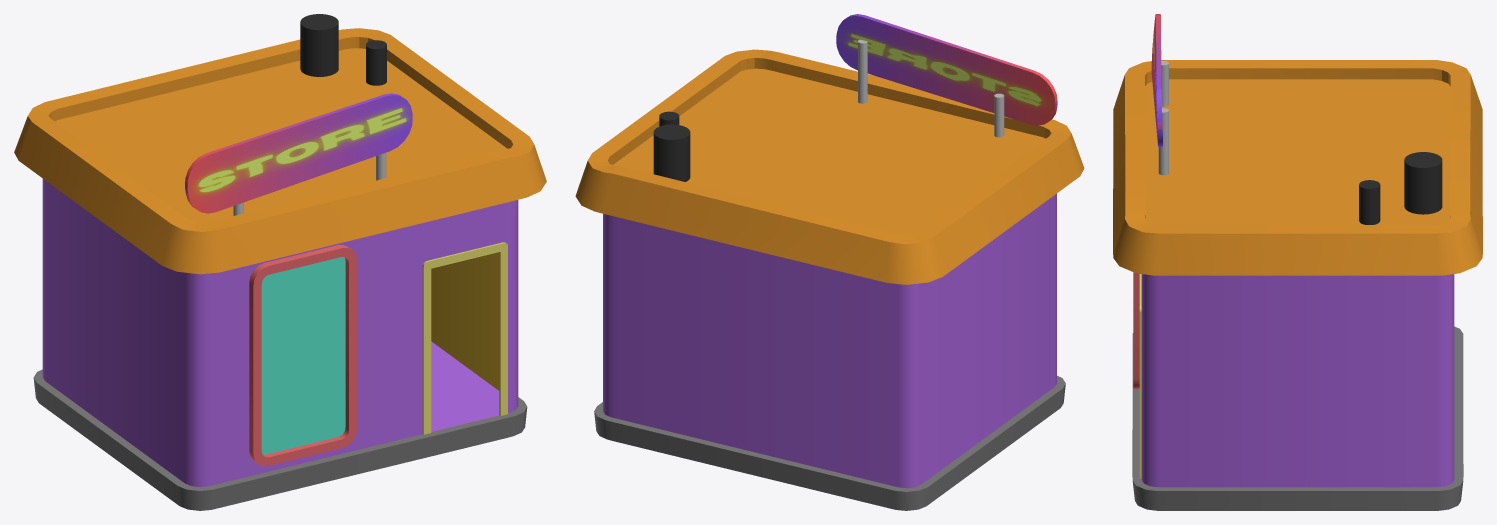
The model's file is shop.fbx.
The picture shows the model from 3 angles, left to right: view 1: azimuth 30°, elevation 25°; view 2: azimuth 150°, elevation 25°; view 3: azimuth 270°, elevation 25°; orthographic projection. The views are drawn at different scales.
Parts seen in each view (by area): view 1: krusha, Cube, glass, store, nuz, yellow, window, door, black; view 2: Cube, krusha, nuz, store, black, truba; view 3: krusha, Cube, nuz, black, store, truba, window, door.
Part boxes in pixels (<box>): krusha: <box>14,28,546,274</box>; Cube: <box>42,179,518,487</box>; glass: <box>261,257,345,454</box>; store: <box>185,93,412,213</box>; nuz: <box>33,369,527,510</box>; yellow: <box>431,252,499,390</box>; window: <box>249,245,357,466</box>; door: <box>422,242,507,434</box>; black: <box>300,14,386,85</box>; Cube: <box>603,193,1056,488</box>; krusha: <box>575,49,1084,284</box>; nuz: <box>594,375,1065,510</box>; store: <box>836,14,1057,125</box>; black: <box>653,111,690,181</box>; truba: <box>858,39,1004,137</box>; krusha: <box>1113,60,1482,275</box>; Cube: <box>1141,274,1454,487</box>; nuz: <box>1132,326,1463,510</box>; black: <box>1359,152,1442,224</box>; store: <box>1151,14,1162,146</box>; truba: <box>1158,61,1168,175</box>; window: <box>1133,272,1139,388</box>; door: <box>1139,274,1141,478</box>.
Size of the model in its own units: 1010 by 915 by 857.
